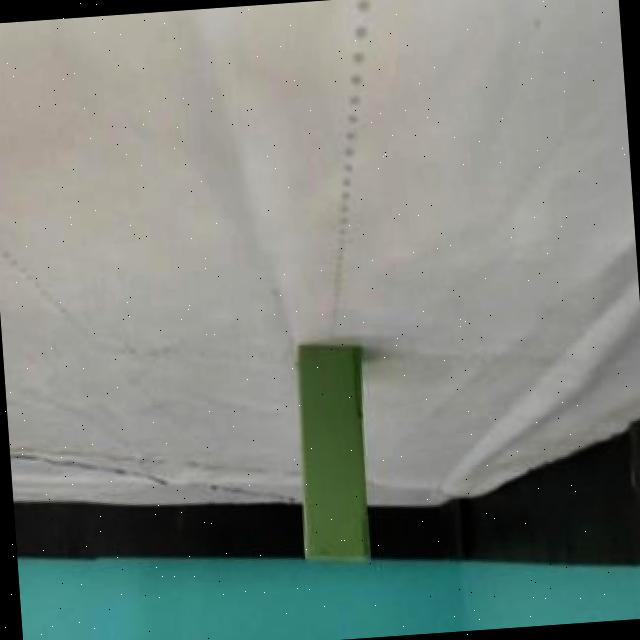greenbox: (284, 336, 376, 568)
